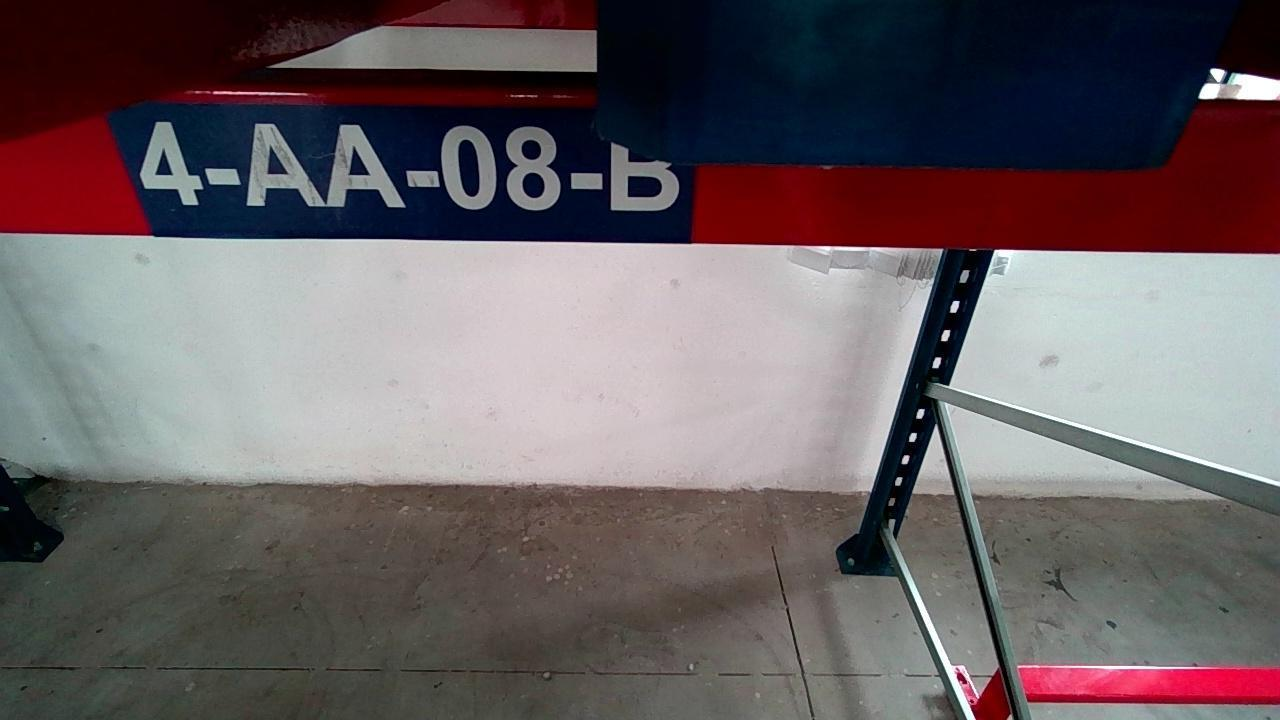h_rack: (1, 88, 1279, 253)
